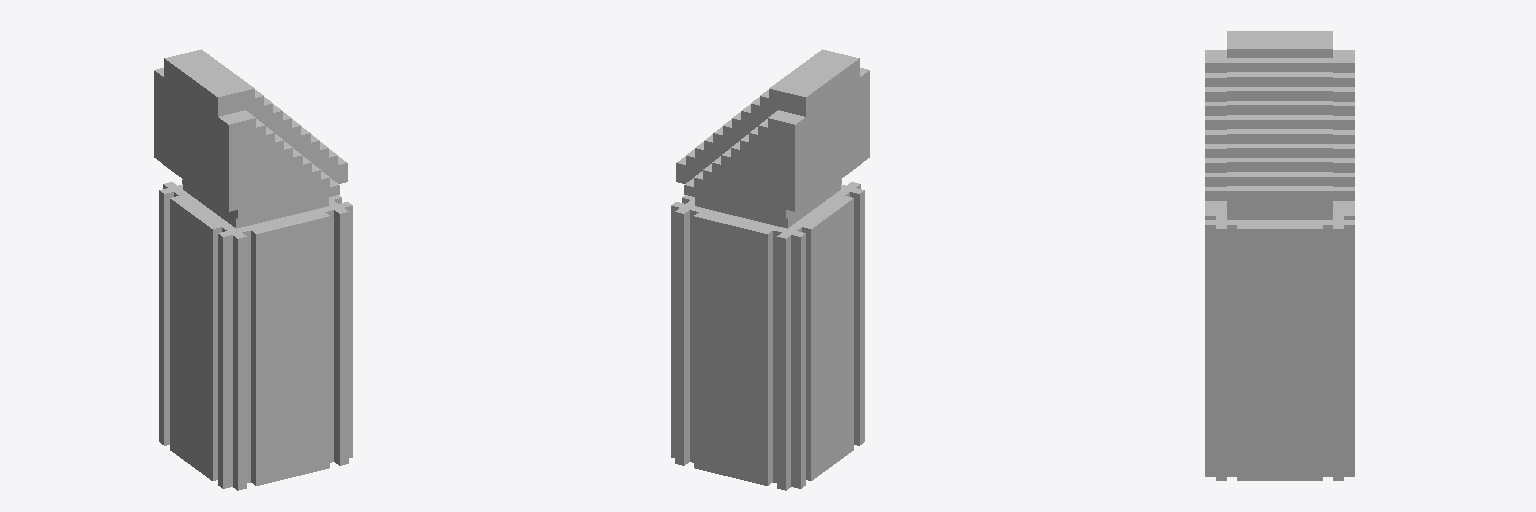
The model's file is vrjam01_towerofstairs_02.obj.
3 views of the same model, side by side, from view 1: azimuth 30°, elevation 25°; view 2: azimuth 150°, elevation 25°; view 3: azimuth 270°, elevation 25° (orthographic).
Bounding box in the file's own units: 14 × 40 × 14.